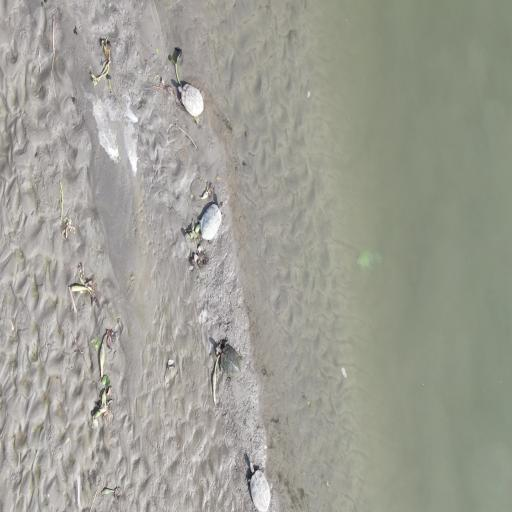turtle: (247, 461, 273, 512), (177, 82, 204, 123), (200, 198, 223, 241), (216, 346, 242, 379)
